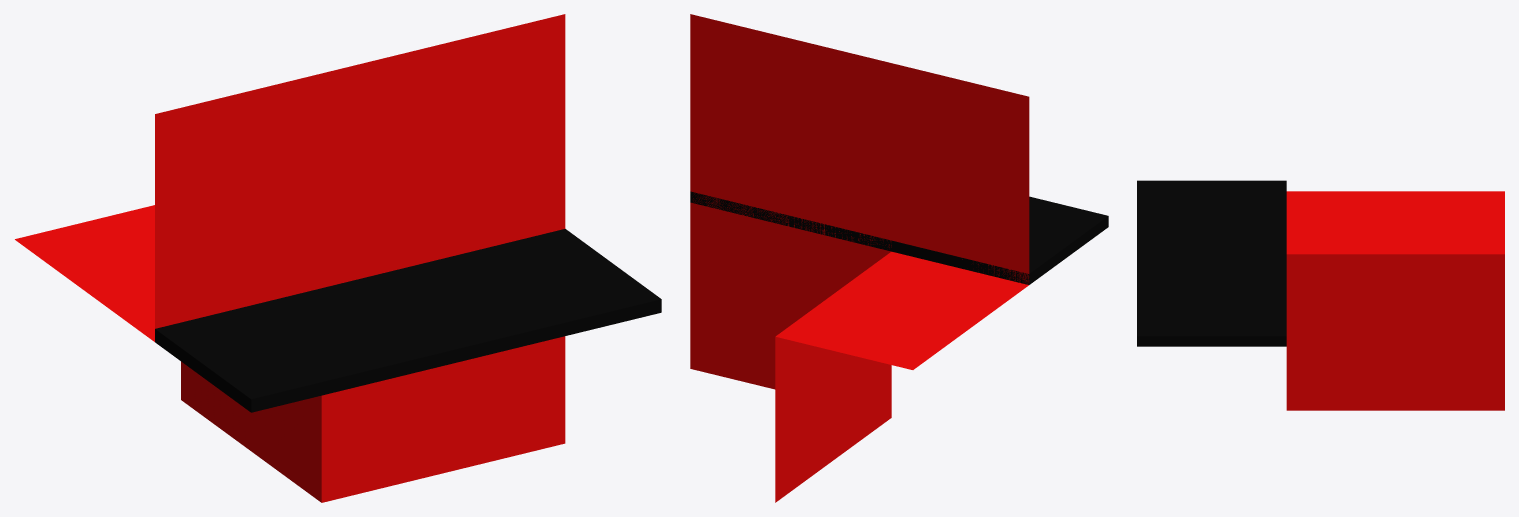
3 views of the same model, side by side, from view 1: azimuth 30°, elevation 25°; view 2: azimuth 150°, elevation 25°; view 3: azimuth 270°, elevation 25° (orthographic). The views are drawn at different scales.
Parts seen in each view (by area): view 1: None_A_P_A_E_E_P_A_E_None; view 2: None_A_P_A_E_E_P_A_E_None; view 3: None_A_P_A_E_E_P_A_E_None.
Part boxes in pixels (left/top/right/bottom): None_A_P_A_E_E_P_A_E_None: left=15, top=14, right=661, bottom=502; None_A_P_A_E_E_P_A_E_None: left=690, top=14, right=1108, bottom=502; None_A_P_A_E_E_P_A_E_None: left=1137, top=180, right=1504, bottom=410.
Size of the model in its own units: 100 by 100 by 100.
